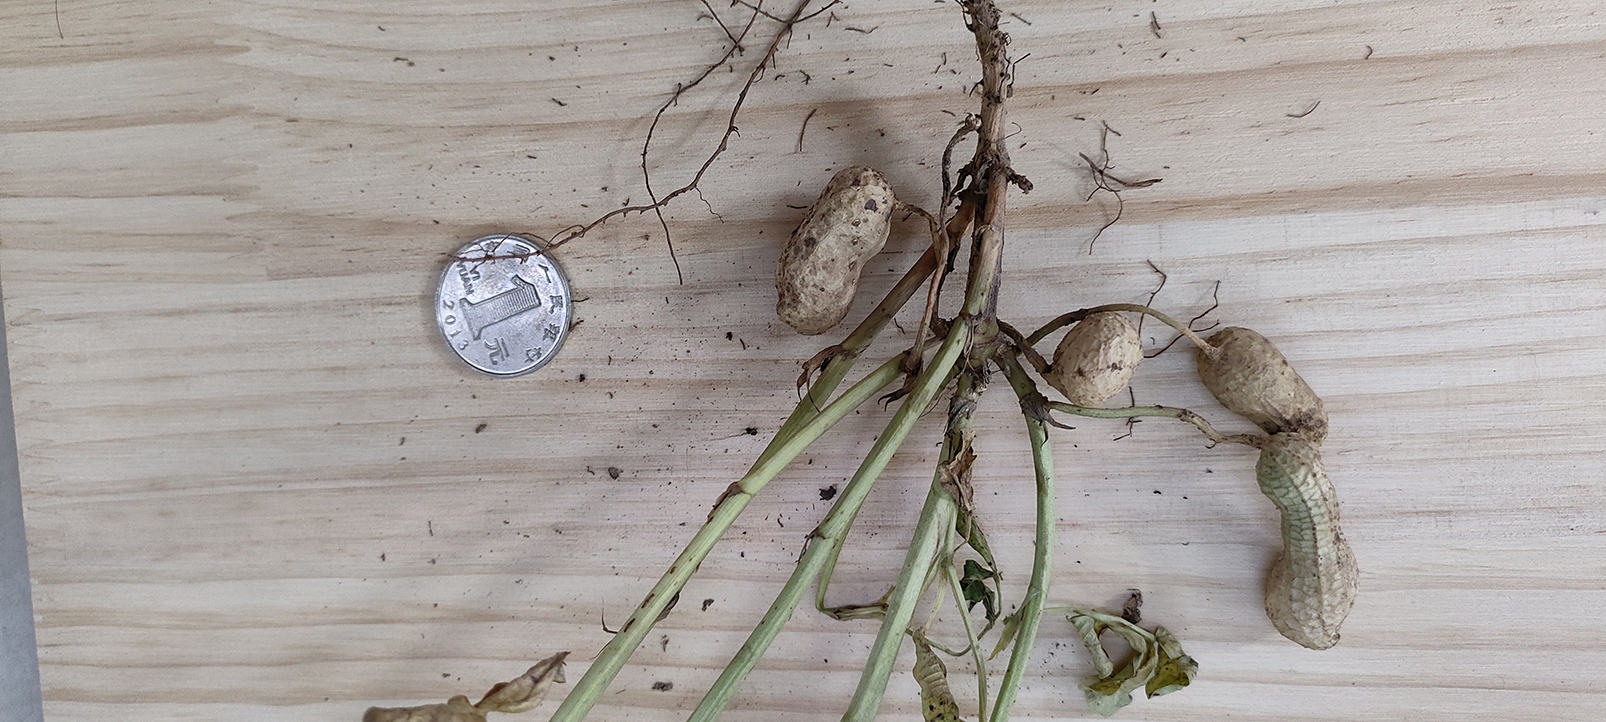h: (1256, 432, 1361, 644), (773, 164, 896, 338), (1199, 326, 1329, 443), (1053, 310, 1143, 408)
